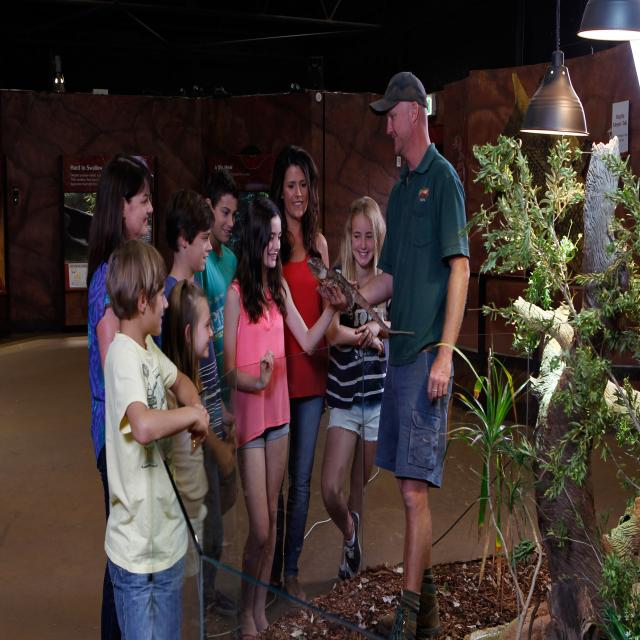body: (314, 70, 474, 640), (222, 190, 356, 639), (100, 235, 212, 639), (150, 187, 241, 638), (84, 151, 154, 640), (266, 142, 337, 608), (320, 194, 395, 584), (160, 276, 222, 640), (193, 172, 239, 414)
